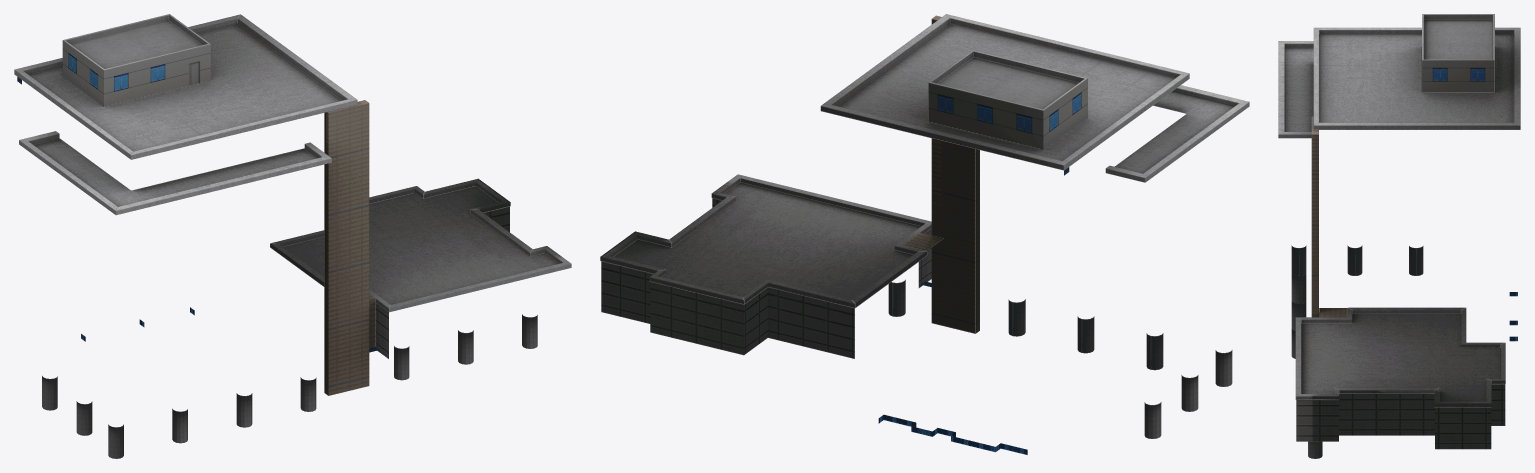
3 views of the same model, side by side, from view 1: azimuth 30°, elevation 25°; view 2: azimuth 150°, elevation 25°; view 3: azimuth 270°, elevation 25° (orthographic). The views are drawn at different scales.
Visible parts, largest first — view 1: 1012; view 2: 1012; view 3: 1012.
Part boxes in pixels (x1,y1,x2,y2): 1012: (14, 14, 571, 458); 1012: (600, 14, 1249, 454); 1012: (1278, 14, 1520, 458).
Size of the model in its own units: 84.56 by 53.62 by 41.53.
Materials: 1 (1 with a texture image).
